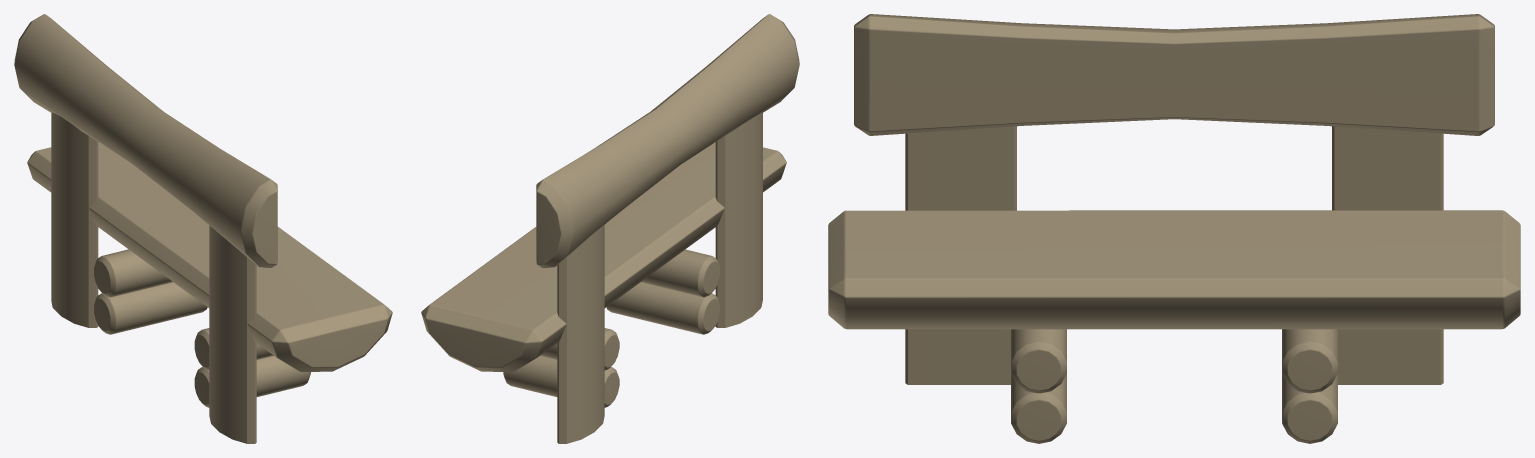
File: BANC.fbx
3 renders of one model, left to right at view 1: azimuth 30°, elevation 25°; view 2: azimuth 150°, elevation 25°; view 3: azimuth 270°, elevation 25°, orthographic. The views are drawn at different scales.
Parts seen in each view (by area): view 1: Banc; view 2: Banc; view 3: Banc.
Boxes of the visible parts, x1,y1,x2,y2 form: Banc: (14, 14, 392, 443); Banc: (421, 14, 799, 443); Banc: (828, 14, 1520, 443).
Size of the model in its own units: 86.2 by 157 by 268.
